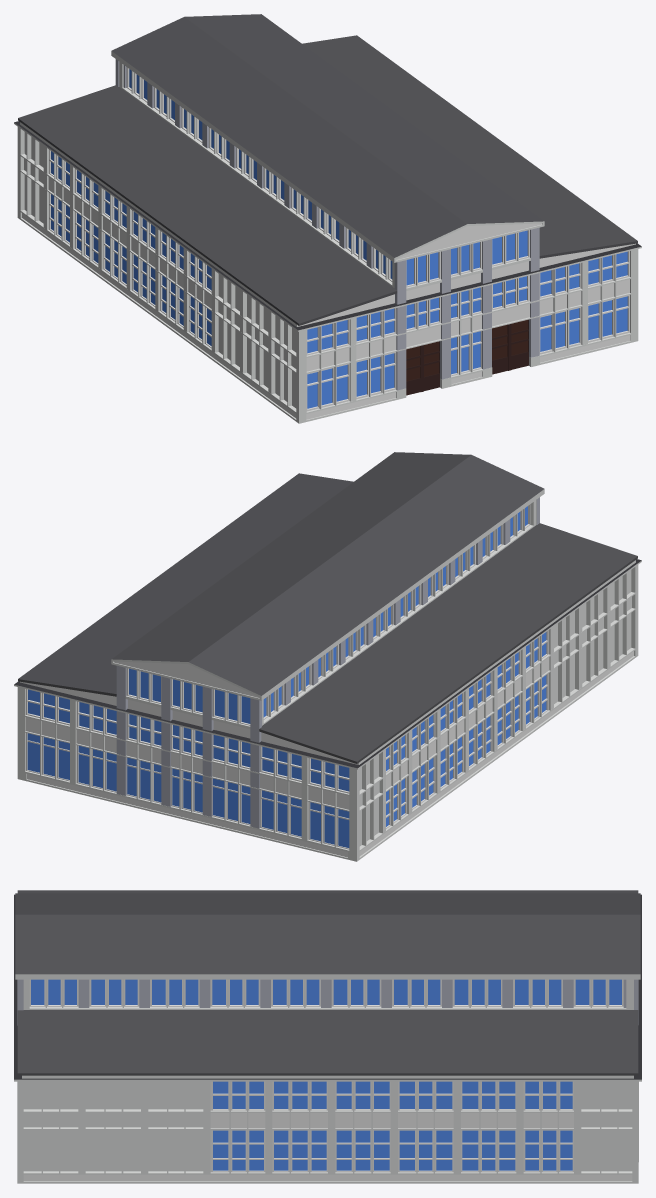
The model's file is Building11_a_LP_LOD0.FBX.
The picture shows the model from 3 angles, top to bottom: view 1: azimuth 30°, elevation 25°; view 2: azimuth 150°, elevation 25°; view 3: azimuth 270°, elevation 25°; orthographic projection. The views are drawn at different scales.
Visible parts, largest first — view 1: Building11_a_LP_LOD0; view 2: Building11_a_LP_LOD0; view 3: Building11_a_LP_LOD0.
Boxes of the visible parts, left/top/right/bottom form: Building11_a_LP_LOD0: left=14, top=14, right=641, bottom=423; Building11_a_LP_LOD0: left=14, top=452, right=641, bottom=861; Building11_a_LP_LOD0: left=14, top=890, right=641, bottom=1183.
Bounding box in the file's own units: 35.77 × 15.87 × 51.25.
